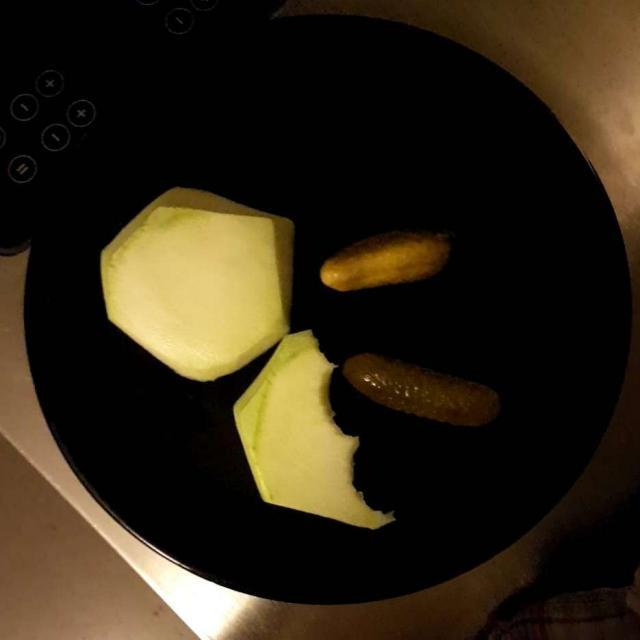kolhrabi: (95, 184, 385, 526)
